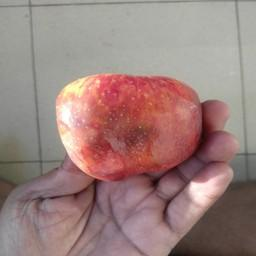Bad_apple: (51, 66, 201, 180)
